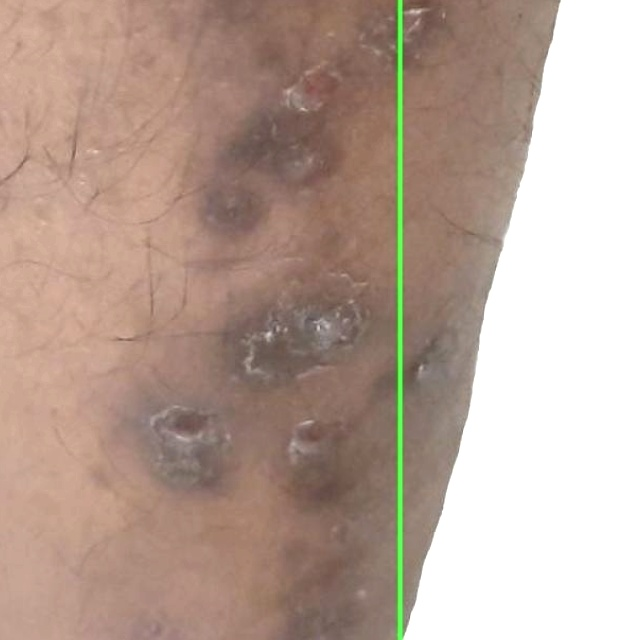Eczema: (400, 0, 639, 639)
